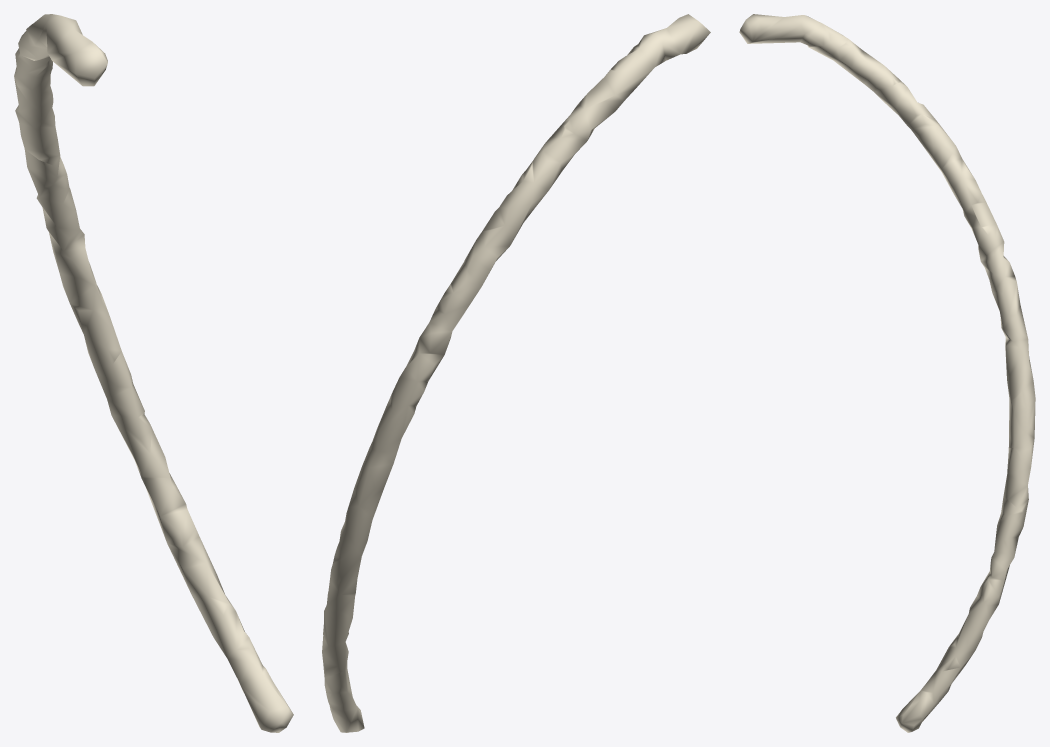
The model's file is rib_10_r.glb.
3 renders of one model, left to right at view 1: azimuth 30°, elevation 25°; view 2: azimuth 150°, elevation 25°; view 3: azimuth 270°, elevation 25°, orthographic. The views are drawn at different scales.
Visible parts, largest first — view 1: geometry_0; view 2: geometry_0; view 3: geometry_0.
Boxes of the visible parts, left/top/right/bottom form: geometry_0: left=14, top=14, right=293, bottom=732; geometry_0: left=322, top=14, right=710, bottom=732; geometry_0: left=739, top=14, right=1035, bottom=732.
Bounding box in the file's own units: 0.4366 × 1.08 × 0.4697.
